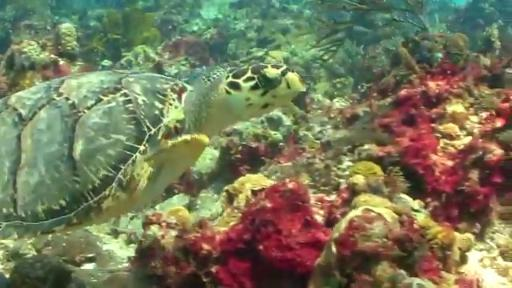Fish: (0, 64, 305, 236)
